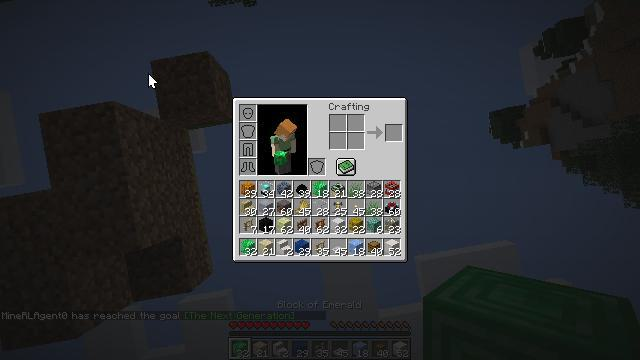cursor: (148, 73, 158, 89)
